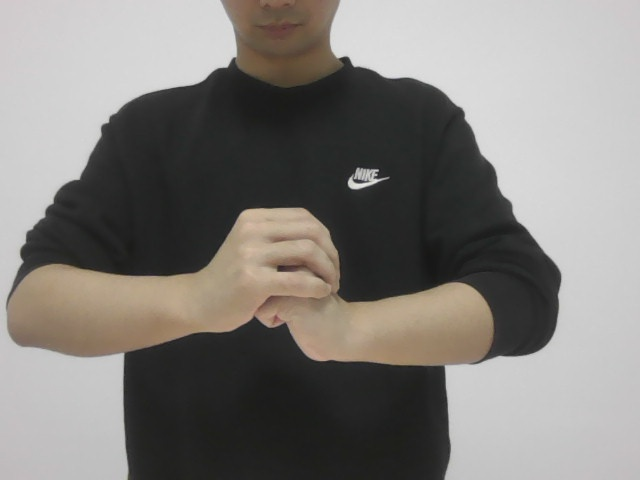wish: (203, 199, 350, 372)
